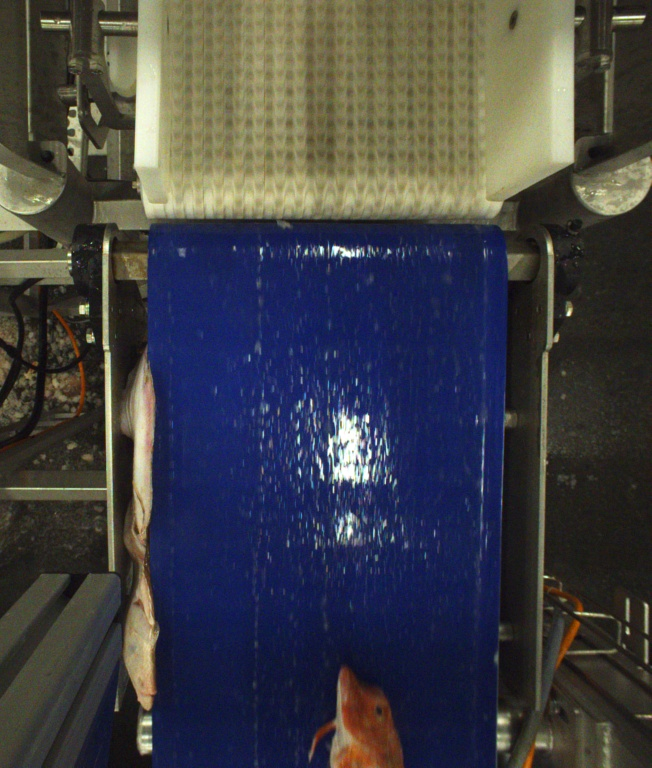GUU: (310, 665, 404, 768)
